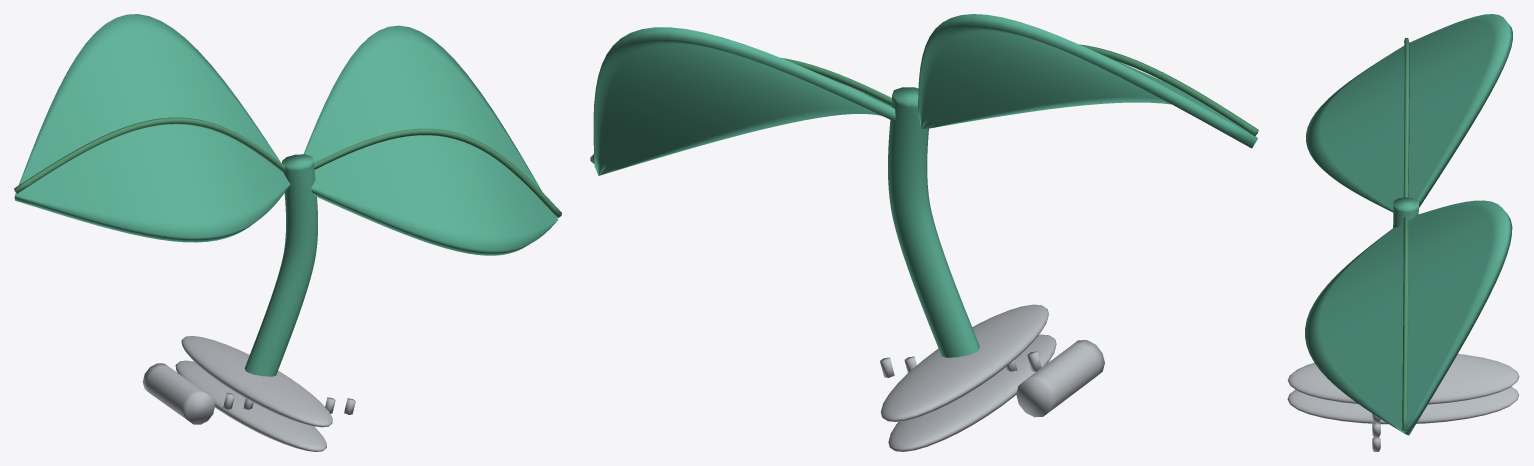
The model's file is Masculine-buzz--none-sprout.glb.
3 renders of one model, left to right at view 1: azimuth 30°, elevation 25°; view 2: azimuth 150°, elevation 25°; view 3: azimuth 270°, elevation 25°, orthographic. The views are drawn at different scales.
Visible parts, largest first — view 1: 226 extra / Accessory / mint226, 226 extra / Sprout / clip silver235, 226 extra / Sprout / leaf vein235; view 2: 226 extra / Accessory / mint226, 226 extra / Sprout / clip silver235, 226 extra / Sprout / leaf vein235; view 3: 226 extra / Accessory / mint226, 226 extra / Sprout / clip silver235, 226 extra / Sprout / leaf vein235.
Boxes of the visible parts, left/top/right/bottom form: 226 extra / Accessory / mint226: left=14, top=14, right=557, bottom=376; 226 extra / Sprout / clip silver235: left=142, top=336, right=355, bottom=451; 226 extra / Sprout / leaf vein235: left=14, top=117, right=561, bottom=217; 226 extra / Accessory / mint226: left=593, top=14, right=1257, bottom=357; 226 extra / Sprout / clip silver235: left=880, top=304, right=1104, bottom=451; 226 extra / Sprout / leaf vein235: left=590, top=44, right=1258, bottom=163; 226 extra / Accessory / mint226: left=1305, top=14, right=1512, bottom=435; 226 extra / Sprout / clip silver235: left=1287, top=354, right=1519, bottom=451; 226 extra / Sprout / leaf vein235: left=1402, top=38, right=1409, bottom=431.
Size of the model in its own units: 0.2621 by 0.1763 by 0.104.
